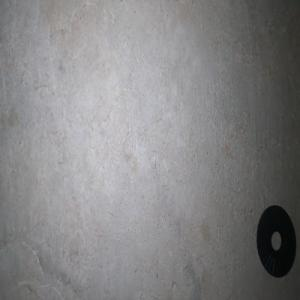Washer: (256, 204, 296, 277)
